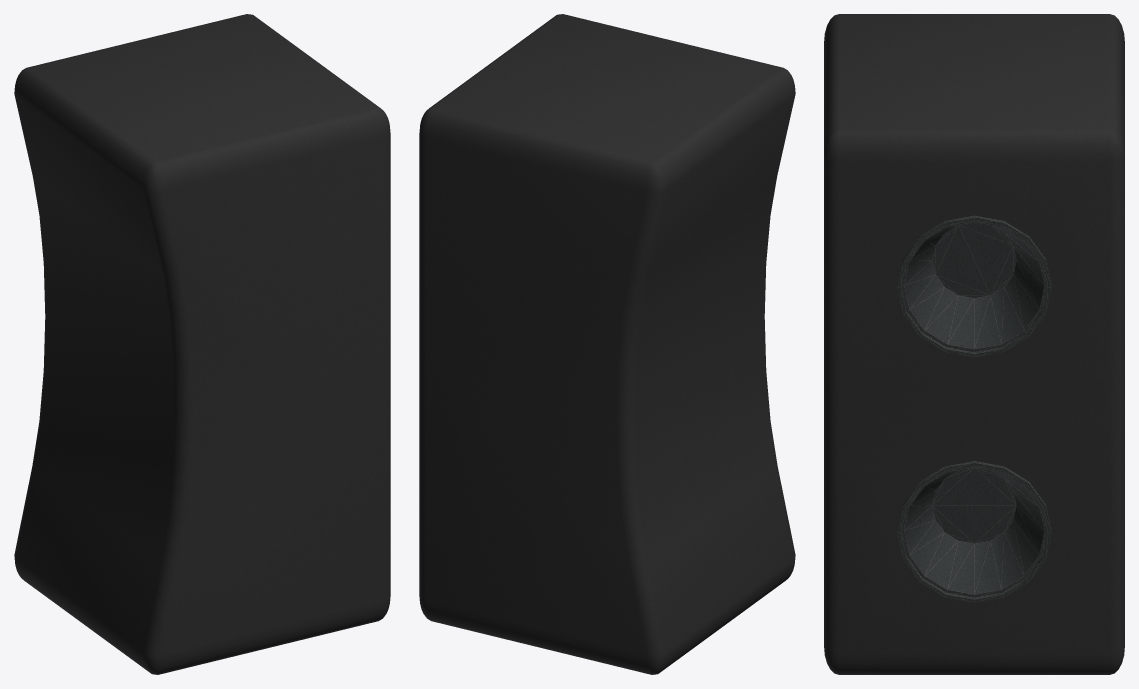
File: speaker.glb
The picture shows the model from 3 angles, left to right: view 1: azimuth 30°, elevation 25°; view 2: azimuth 150°, elevation 25°; view 3: azimuth 270°, elevation 25°; orthographic projection. The views are drawn at different scales.
Parts seen in each view (by area): view 1: speaker; view 2: speaker; view 3: speaker.
Boxes of the visible parts, box(x1,y1,x2,y2) form: speaker: box(14, 14, 390, 674); speaker: box(419, 14, 795, 674); speaker: box(824, 14, 1124, 674).
Bounding box in the file's own units: 0.1523 × 0.3 × 0.15.
2 materials, 2 textured.
